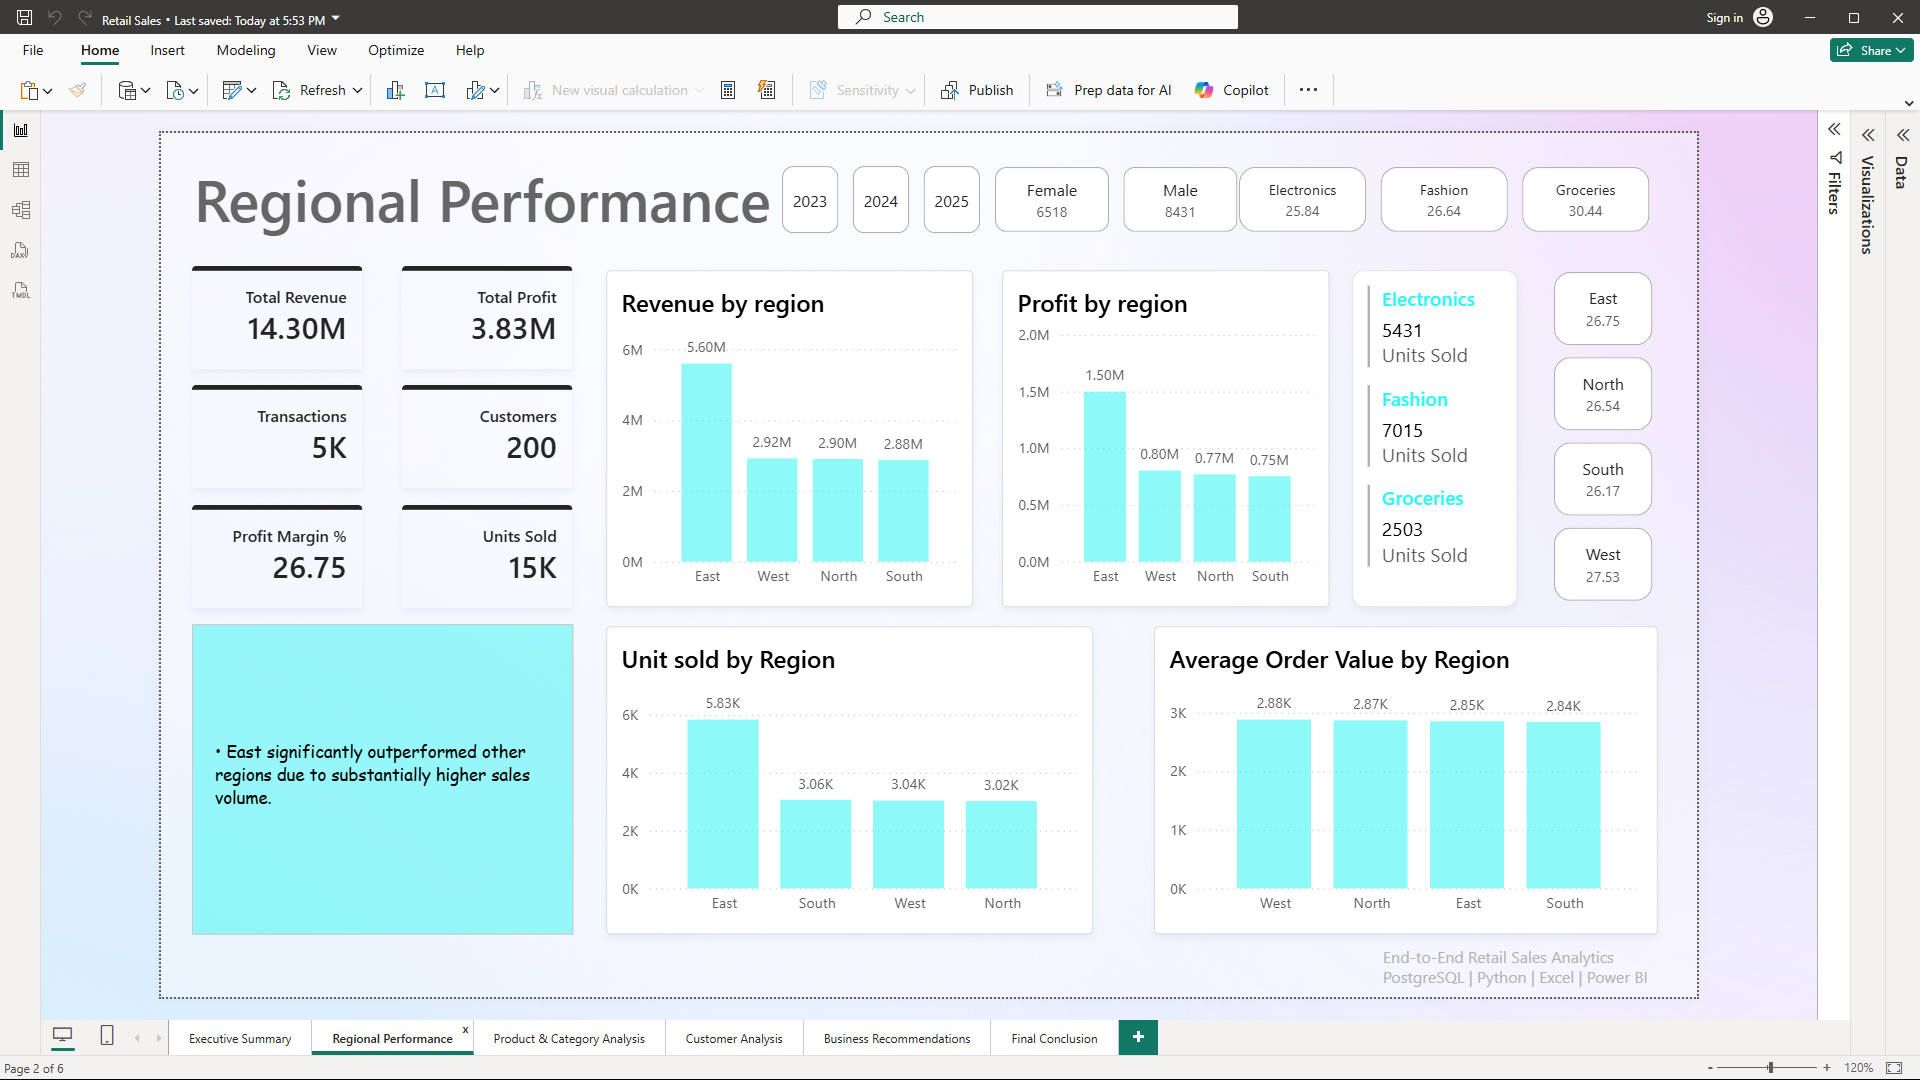

This screenshot's page, from the dashboard's own definition file:
{"tool":"powerbi","page":{"name":"Regional Performance","canvas":[1280,720],"ordinal":1},"visuals":[{"type":"cardVisual","fields":{"Data":["_Measures.Total Revenue"]},"box":[25.6,111.1,142.2,85.6],"z":0},{"type":"cardVisual","fields":{"Data":["_Measures.Total Profit"]},"box":[201.1,111.1,142.2,85.6],"z":1000},{"type":"cardVisual","fields":{"Data":["_Measures.Transactions"]},"box":[25.6,210,142.2,85.6],"z":2000},{"type":"cardVisual","fields":{"Data":["_Measures.Customers"]},"box":[201.1,210,142.2,85.6],"z":3000},{"type":"cardVisual","fields":{"Data":["_Measures.Profit Margin %"]},"box":[25.6,310,142.2,85.6],"z":4000},{"type":"columnChart","title":"Revenue by region","fields":{"Y":["_Measures.Total Revenue"],"Category":["retail_business_table.region"]},"box":[371.1,114.4,305.6,281.1],"z":5000},{"type":"columnChart","title":"Profit by region","fields":{"Category":["retail_business_table.region"],"Y":["Sum(retail_business_table.profit)"]},"box":[701.1,114.4,273.3,281.1],"z":6000},{"type":"columnChart","title":"Unit sold by Region","fields":{"Y":["Sum(retail_business_table.quantity)"],"Category":["retail_business_table.region"]},"box":[371.1,411.1,405.6,256.7],"z":7000},{"type":"advancedSlicerVisual","fields":{"Values":["retail_business_table.region"]},"box":[1155.6,111.1,92.2,284.4],"z":8000},{"type":"advancedSlicerVisual","fields":{"Values":["retail_business_table.category"]},"box":[893.3,13.3,354.4,84.4],"z":9000},{"type":"advancedSlicerVisual","fields":{"Values":["retail_business_table.gender"]},"box":[690,13.3,212.2,84.4],"z":10000},{"type":"multiRowCard","fields":{"Values":["retail_business_table.category","_Measures.Units Sold"]},"box":[992.2,114.4,137.8,281.1],"z":11000},{"type":"textbox","box":[22.2,17.8,502.2,80],"z":12000},{"type":"shape","box":[25.6,408.9,317.8,258.9],"z":13000},{"type":"cardVisual","fields":{"Data":["_Measures.Units Sold"]},"box":[201.1,310,142.2,85.6],"z":14000},{"type":"textbox","box":[40,501.1,288.9,76.7],"z":15000},{"type":"columnChart","title":"Average Order Value by Region","fields":{"Category":["retail_business_table.region"],"Y":["_Measures.Avg Order Value"]},"box":[827.8,411.1,420,256.7],"z":16000},{"type":"advancedSlicerVisual","fields":{"Values":["DateTable.Year"]},"box":[512.2,12.2,177.8,86.7],"z":17000},{"type":"textbox","box":[1013.3,672.2,232.2,47.8],"z":18000}]}

Visuals, with their boxes on the page's 1280x720 design canvas (x1, y1, x2, y2). These are canvas units, not pixel positions in the 1920x1080 screenshot, which may show the page scaled, cropped or inside an application window:
cardVisual - _Measures.Total Revenue: 26:111:168:197
cardVisual - _Measures.Total Profit: 201:111:343:197
cardVisual - _Measures.Transactions: 26:210:168:296
cardVisual - _Measures.Customers: 201:210:343:296
cardVisual - _Measures.Profit Margin %: 26:310:168:396
"Revenue by region" columnChart: 371:114:677:396
"Profit by region" columnChart: 701:114:974:396
"Unit sold by Region" columnChart: 371:411:777:668
advancedSlicerVisual - retail_business_table.region: 1156:111:1248:396
advancedSlicerVisual - retail_business_table.category: 893:13:1248:98
advancedSlicerVisual - retail_business_table.gender: 690:13:902:98
multiRowCard - retail_business_table.category x _Measures.Units Sold: 992:114:1130:396
textbox: 22:18:524:98
shape: 26:409:343:668
cardVisual - _Measures.Units Sold: 201:310:343:396
textbox: 40:501:329:578
"Average Order Value by Region" columnChart: 828:411:1248:668
advancedSlicerVisual - DateTable.Year: 512:12:690:99
textbox: 1013:672:1246:720
